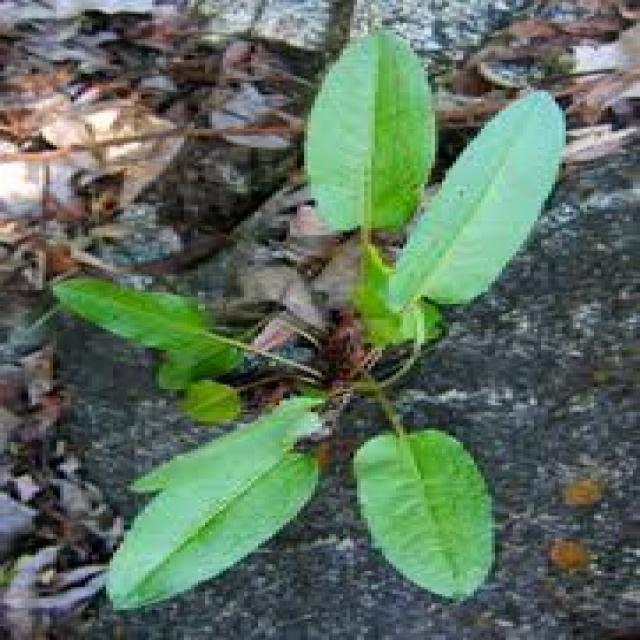organic waste: (18, 23, 594, 640)
